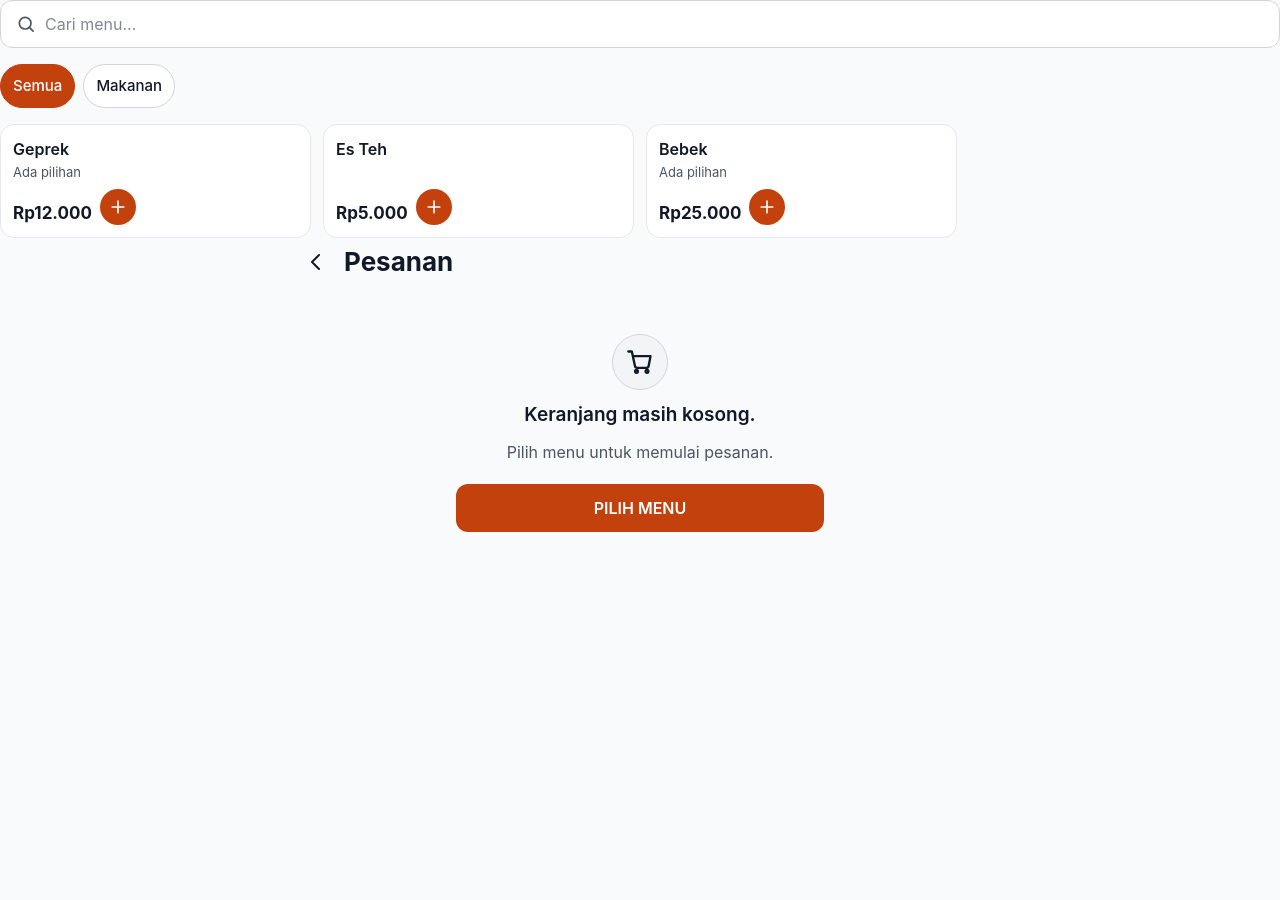
products with options on the cashier screen › opens the choice sheet instead of adding, while a plain product still joins the order at once
This screenshot has width=1280, height=900.
Expected: the button "Geprek Ada pilihan Rp12.000" is shown, [0,124,311,238]
Click the button "Es Teh Rp5.000".
click(362, 149)  # box [323,124,634,238]
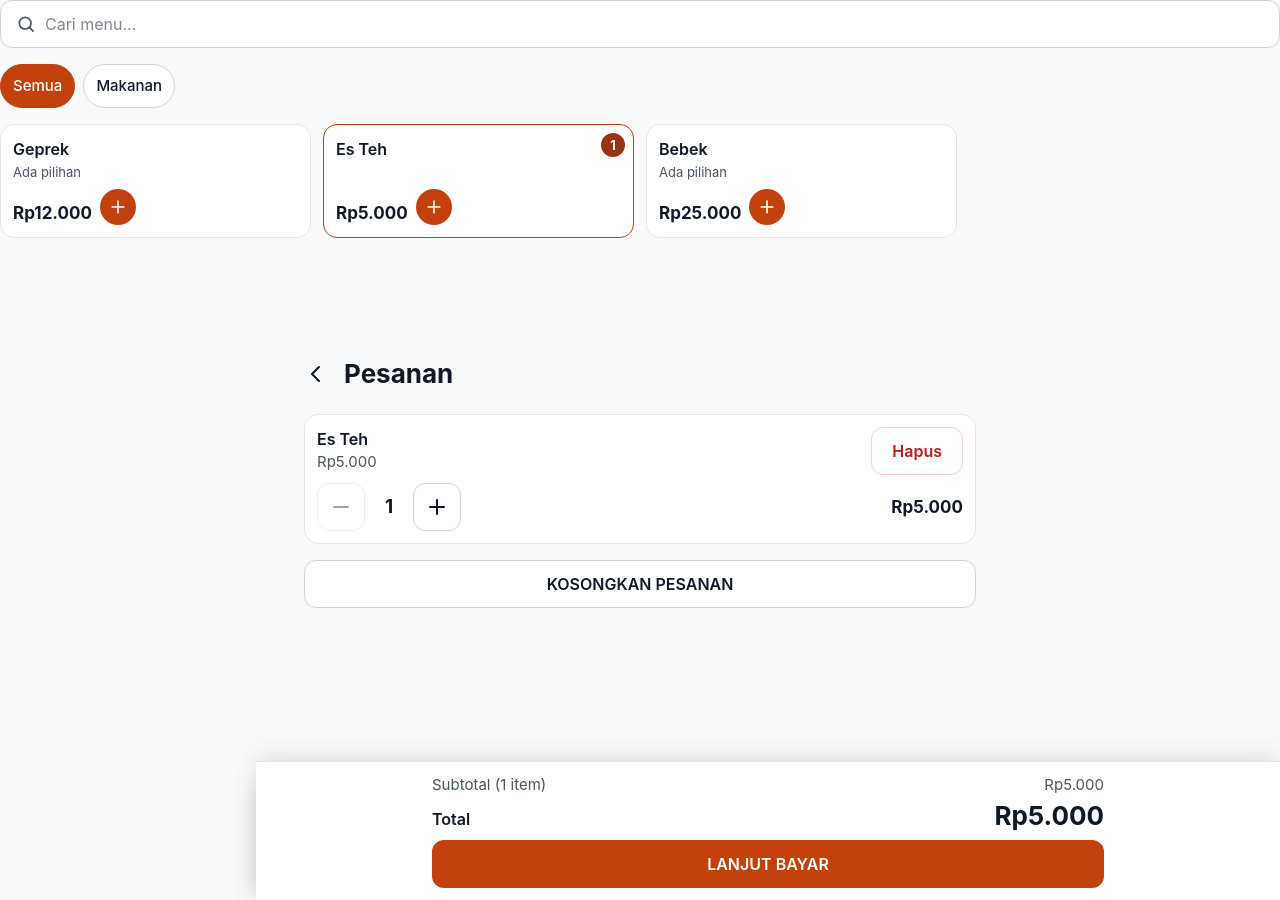
Click the button "Geprek Ada pilihan Rp12.000".
click(41, 149)  # box [0,124,311,238]
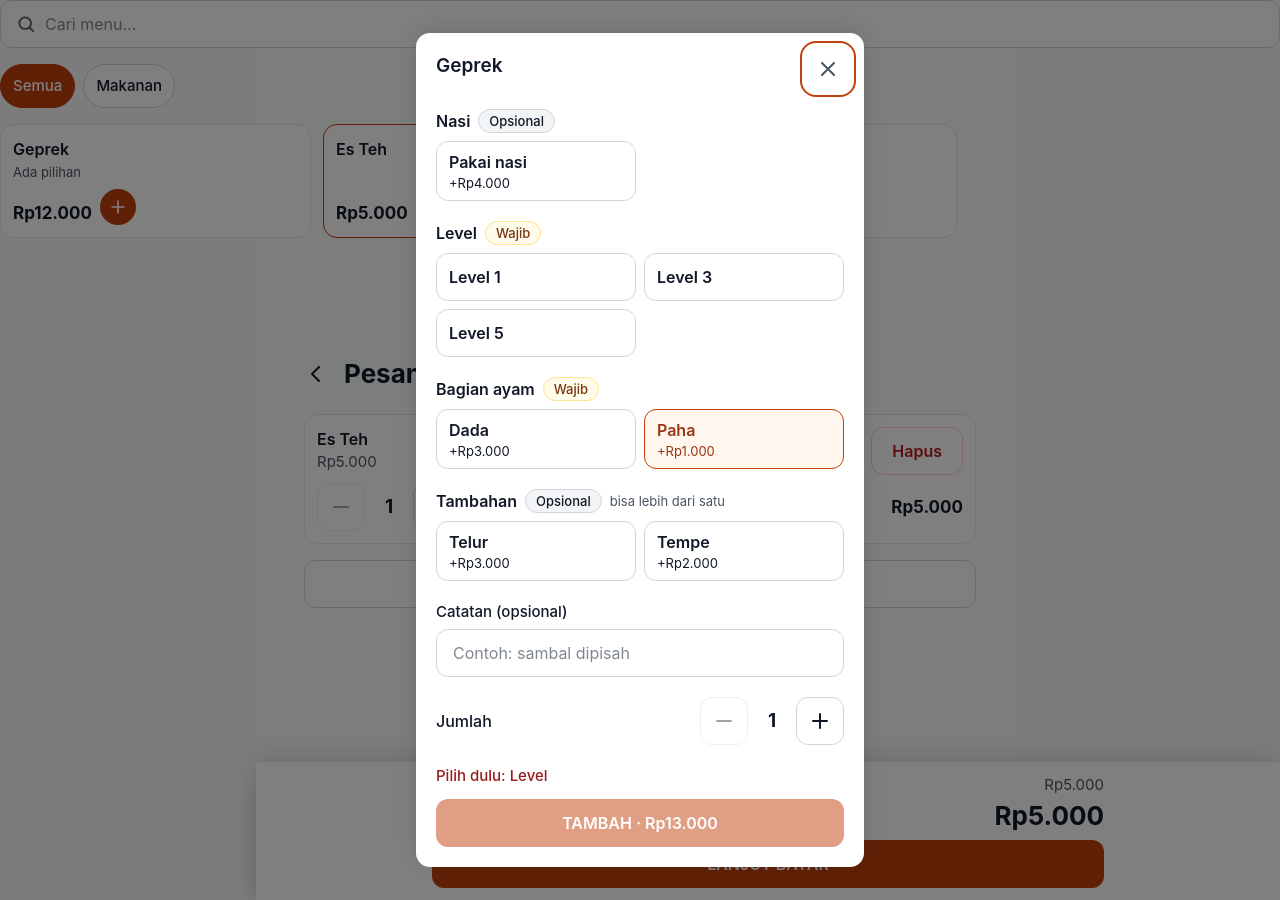
Expected: the dialog is shown, [416,33,864,867]
